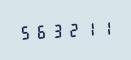five: (17, 22, 32, 41)
one: (82, 19, 97, 38), (98, 18, 113, 37)
six: (33, 21, 48, 40)
three: (50, 20, 65, 40)
two: (66, 19, 81, 39)
